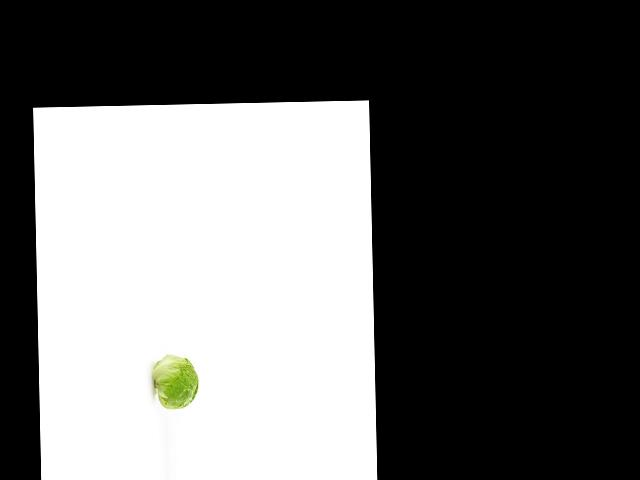lettuce: (155, 353, 200, 416)
